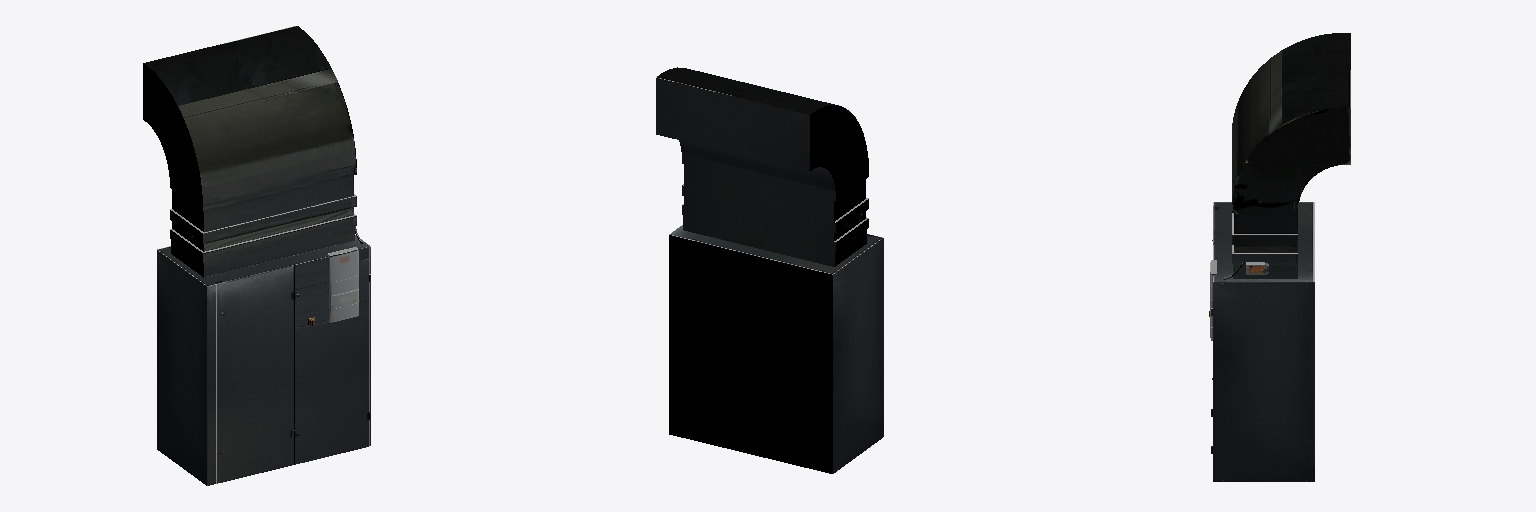
3 renders of one model, left to right at view 1: azimuth 30°, elevation 25°; view 2: azimuth 150°, elevation 25°; view 3: azimuth 270°, elevation 25°, orthographic.
Parts seen in each view (by area): view 1: set7Model; view 2: set7Model; view 3: set7Model.
Part boxes in pixels (x1,y1,x2,y2): set7Model: (143, 26, 370, 485); set7Model: (656, 67, 883, 473); set7Model: (1209, 33, 1350, 481).
Bounding box in the file's own units: 2.06 × 4.45 × 1.54.
Materials: 1 (1 with a texture image).